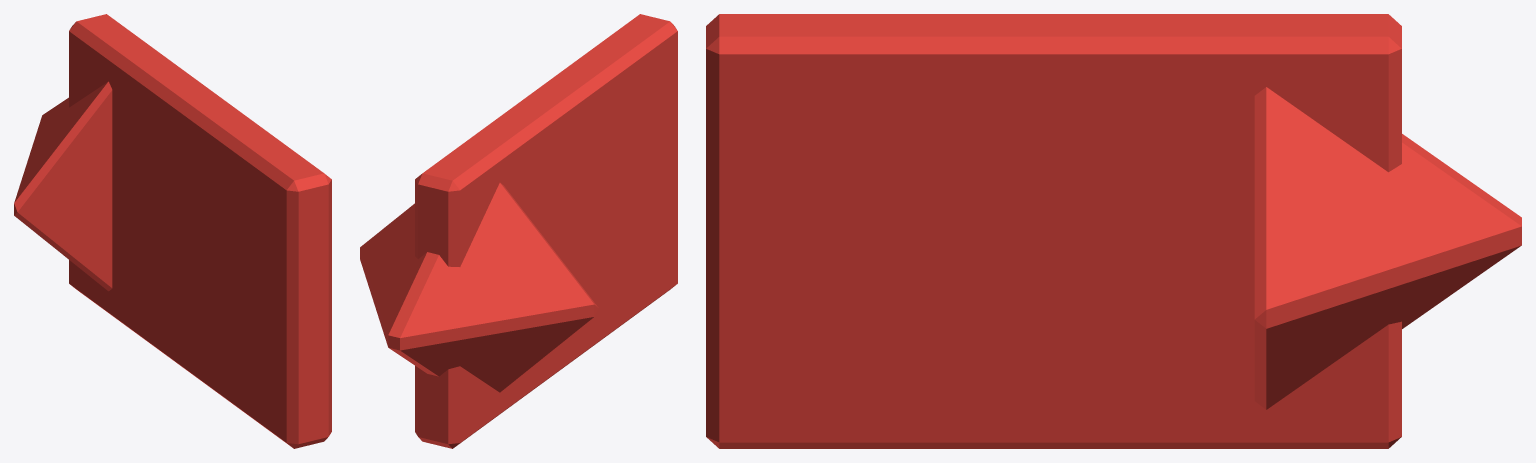
Rendered from flag_cloth.glb.
3 renders of one model, left to right at view 1: azimuth 30°, elevation 25°; view 2: azimuth 150°, elevation 25°; view 3: azimuth 270°, elevation 25°, orthographic. The views are drawn at different scales.
Parts seen in each view (by area): view 1: flag_cloth; view 2: flag_cloth; view 3: flag_cloth.
Boxes of the visible parts, left/top/right/bottom form: flag_cloth: left=14, top=14, right=331, bottom=448; flag_cloth: left=360, top=14, right=677, bottom=448; flag_cloth: left=706, top=14, right=1521, bottom=448.
Size of the model in its own units: 0.1559 by 0.17 by 0.3049.
